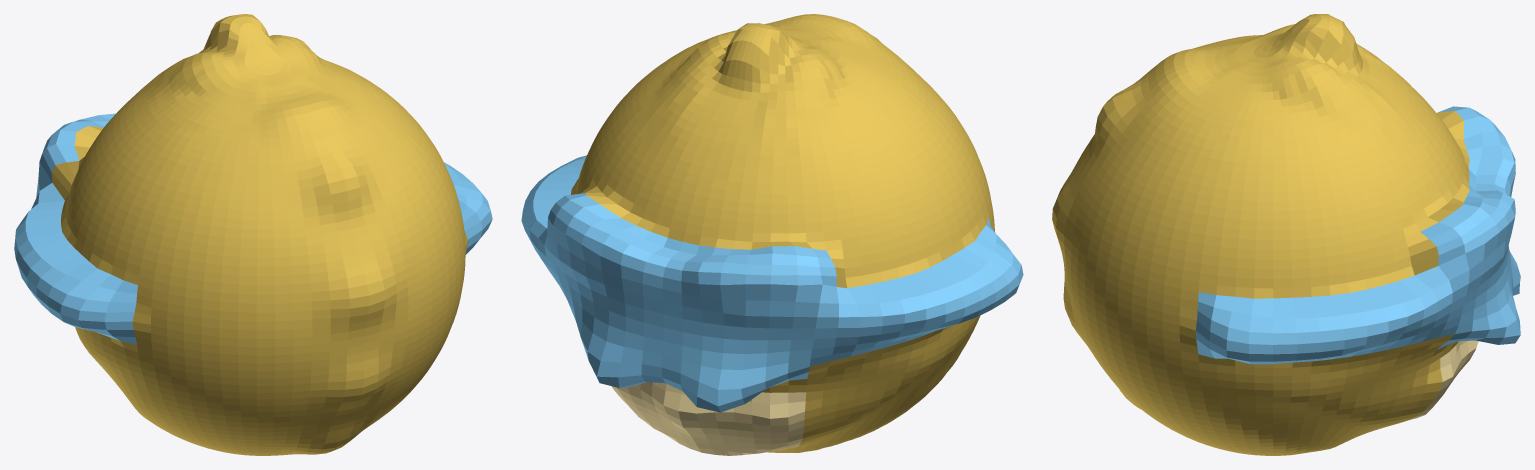
Rendered from Player.fbx.
3 views of the same model, side by side, from view 1: azimuth 30°, elevation 25°; view 2: azimuth 150°, elevation 25°; view 3: azimuth 270°, elevation 25° (orthographic). The views are drawn at different scales.
Visible parts, largest first — view 1: Сфера; view 2: Сфера; view 3: Сфера.
Part boxes in pixels (x1,y1,x2,y2): Сфера: (14, 14, 492, 455); Сфера: (521, 14, 1023, 455); Сфера: (1052, 14, 1520, 455).
Size of the model in its own units: 246 by 220 by 223.
